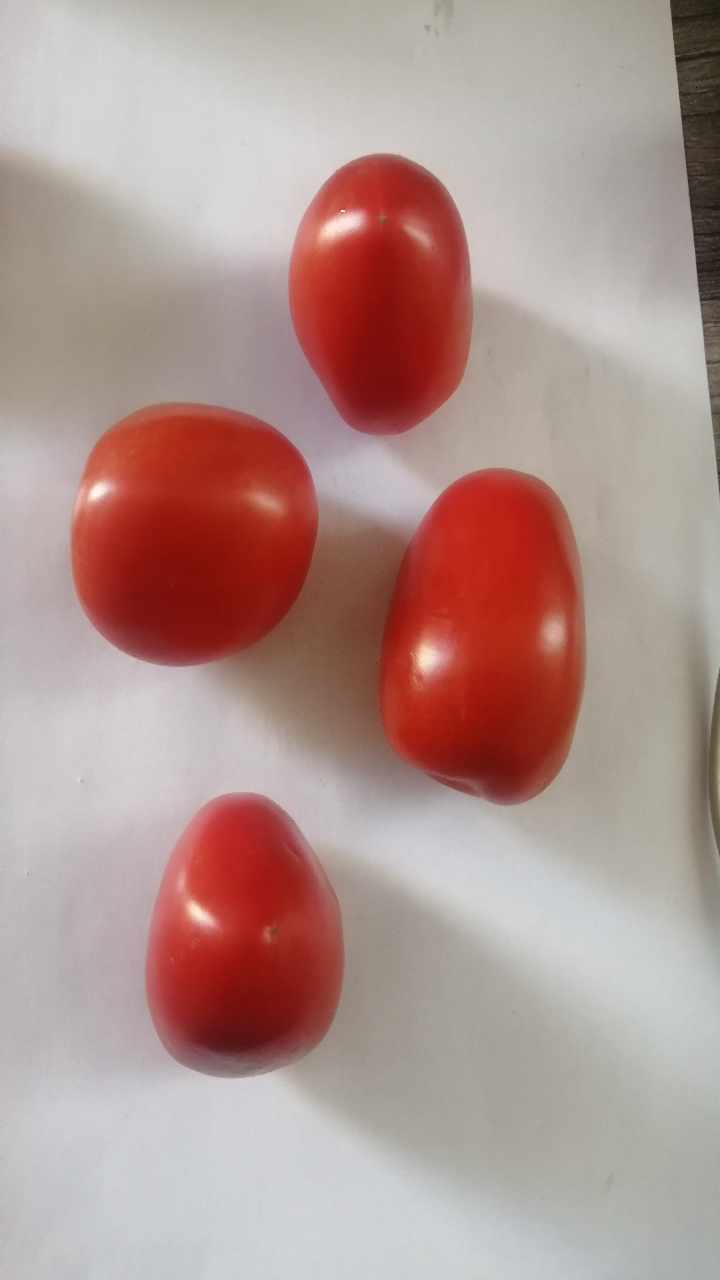tomateRojo: (366, 448, 620, 819), (49, 380, 328, 686), (278, 128, 492, 462), (140, 791, 361, 1088)
